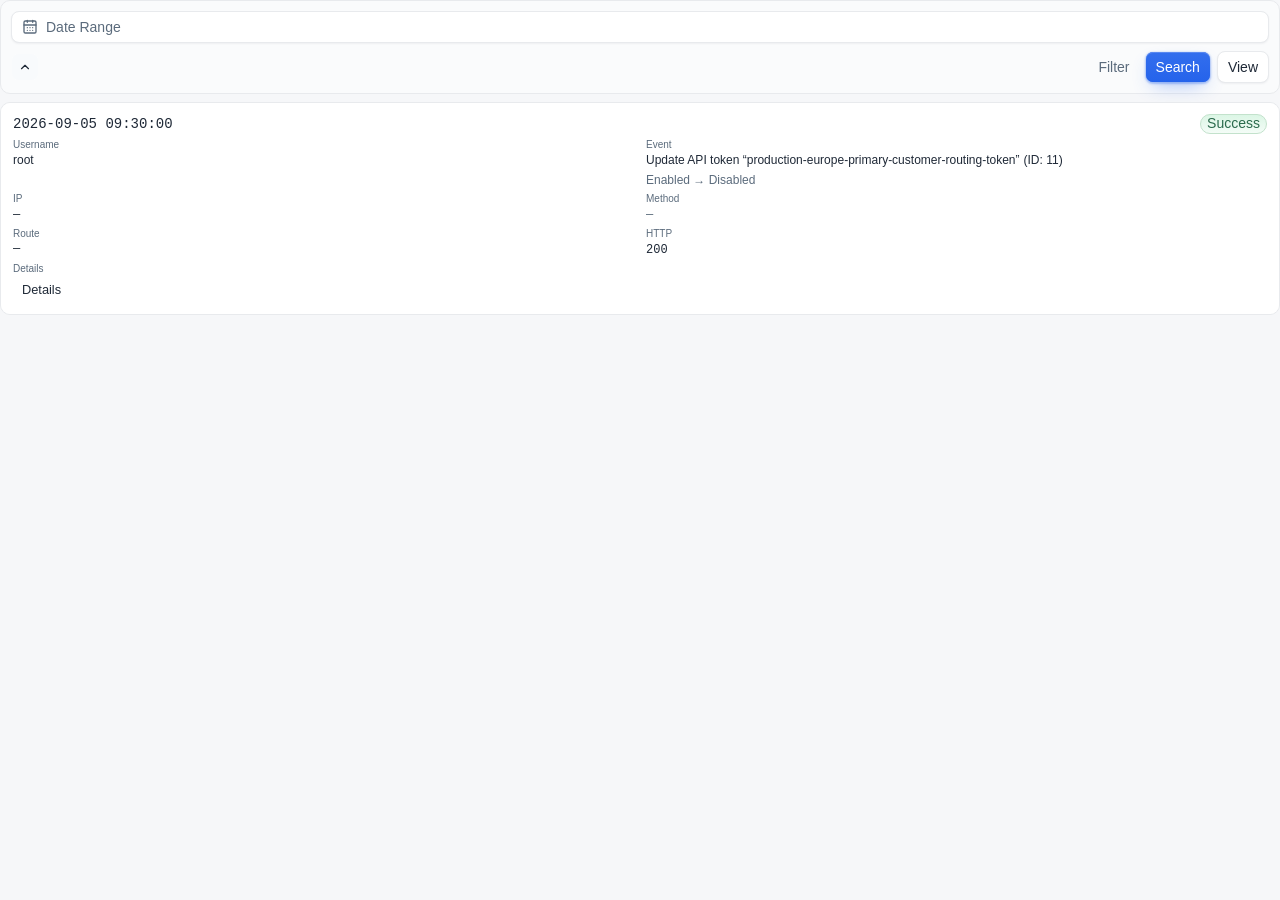
Scenario: keeps the ID outside long-name truncation and shows complete details (mobile=true)
This screenshot has width=1280, height=900.
Check: the text "(ID: 11)" is shown, box [1024,152,1063,168]
Check: the text "Enabled → Disabled" is shown, box [646,173,755,187]
Click the button "Details": (42, 290) [13,276,70,304]
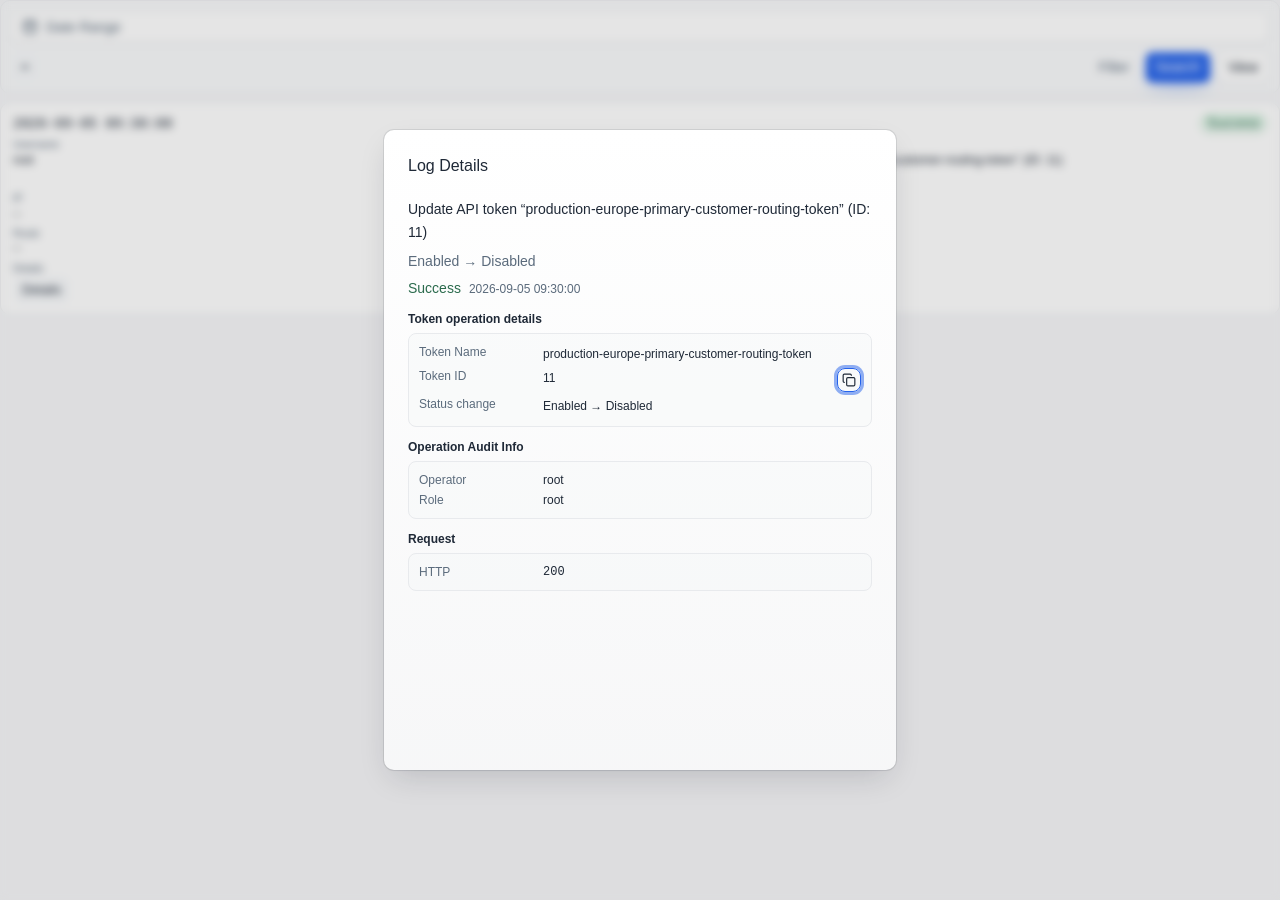
Check: the element showing "Token Name production-europe-primary-customer-routing-token" is shown, box [419,344,861,364]
